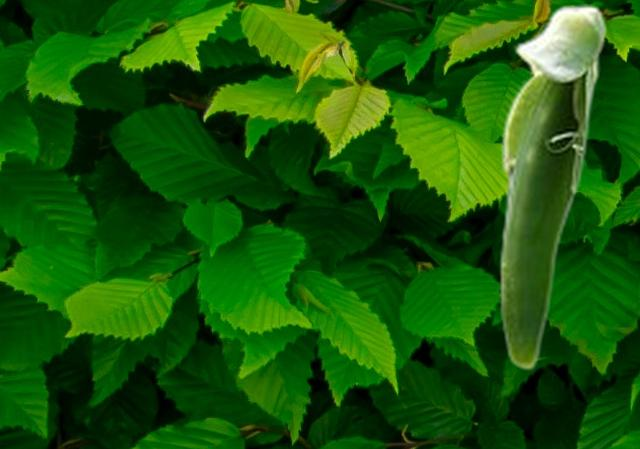pea: (498, 4, 607, 370)
